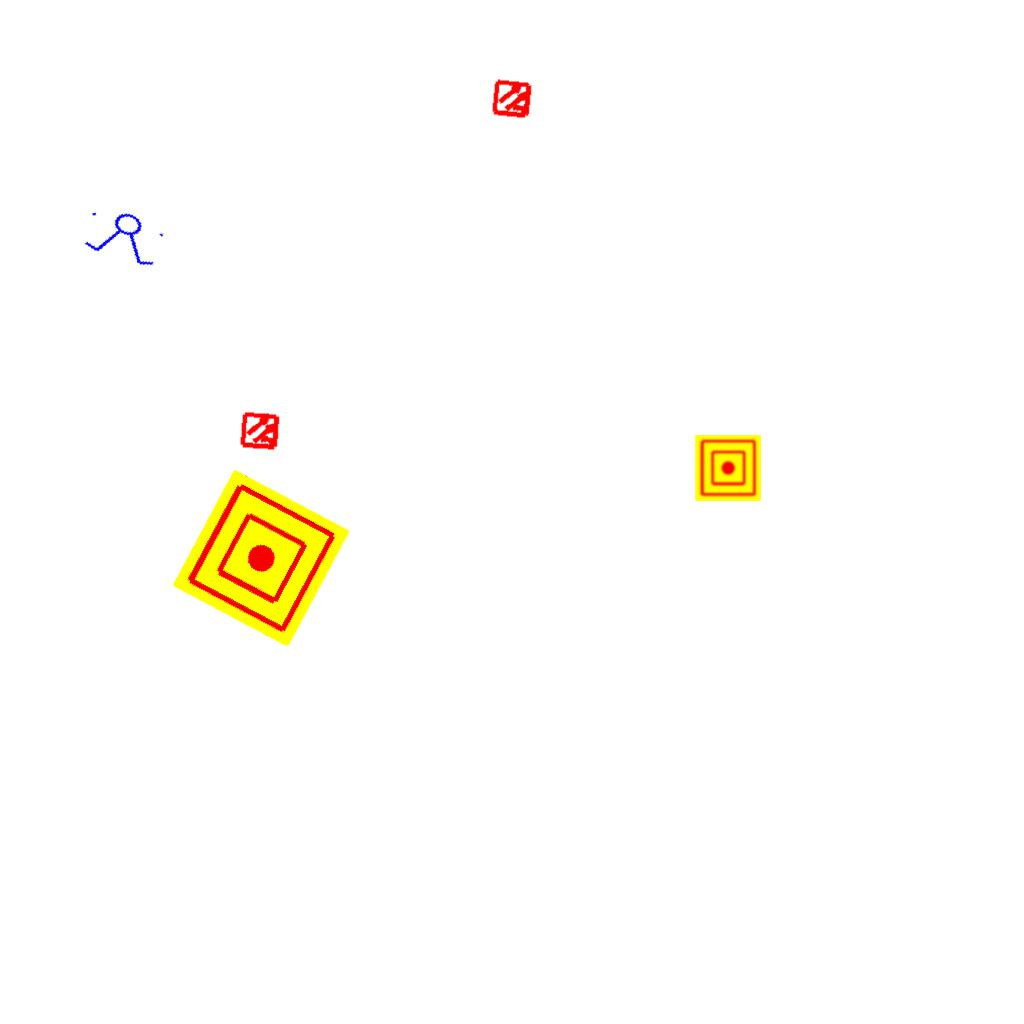NAM-Nichtautomatischer_Melder: (171, 468, 351, 648), (695, 435, 761, 501)
OT_Multisensormelder_(Kombination_RMO_WMD): (482, 68, 544, 130), (231, 401, 291, 461)
Serienschalter: (77, 201, 173, 273)
